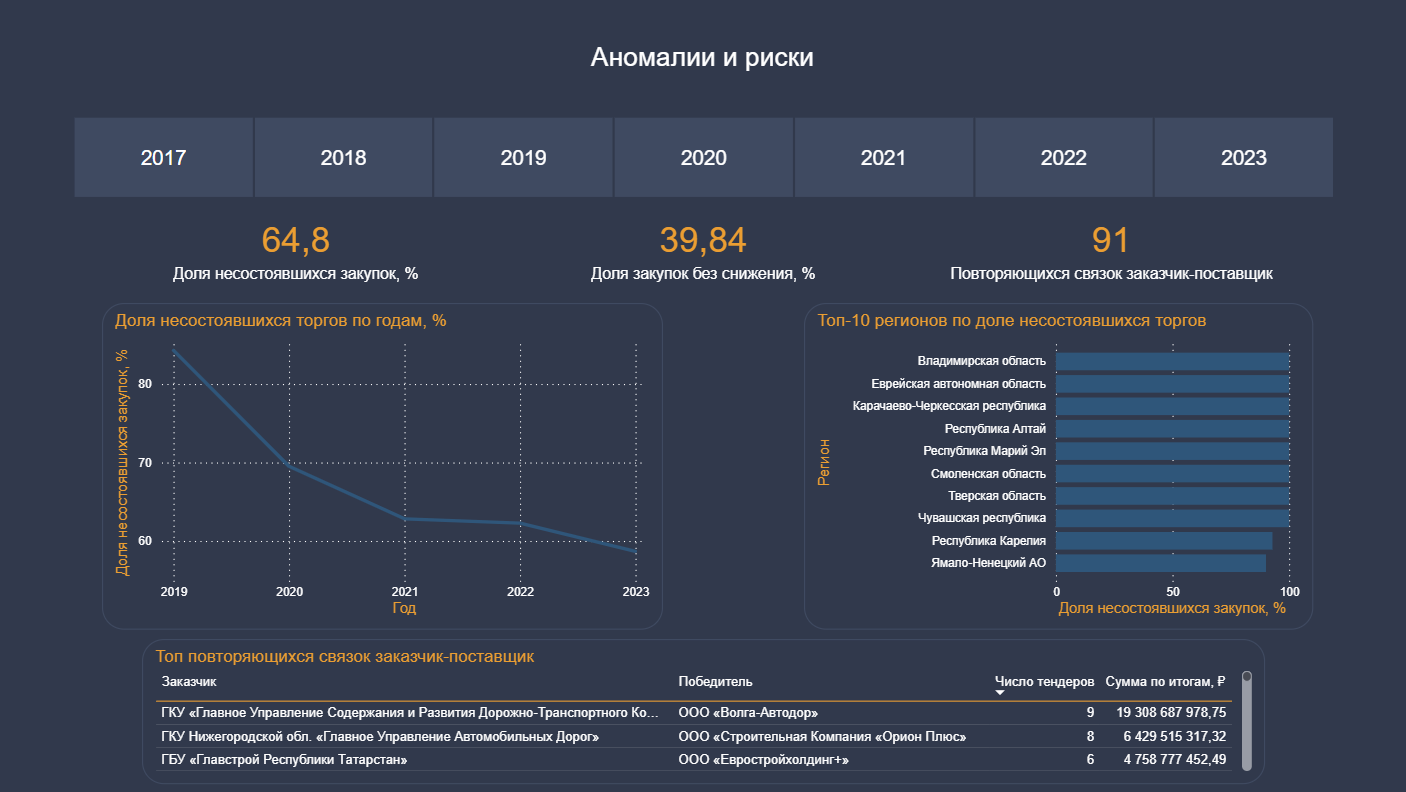

Layout of this report page (visuals, bound fields, positions):
{"tool":"powerbi","page":{"name":"Аномалии и риски","canvas":[1280,720],"ordinal":3},"visuals":[{"type":"slicer","fields":{"Values":["public dim_date.year"]},"box":[43,100,1194,86],"z":0},{"type":"textbox","box":[409,33,461,45],"z":1000},{"type":"card","fields":{"Values":["public fact_tenders.Доля без снижения, %"]},"box":[490,185.5,300.9,80],"z":2000},{"type":"card","fields":{"Values":["public fact_tenders.Доля несостоявшихся закупок, %"]},"box":[120,185.8,300,80],"z":3000},{"type":"card","fields":{"Values":["public fact_tenders.Повторяющихся связок"]},"box":[860,185,303,80],"z":4000},{"type":"lineChart","title":"Доля несостоявшихся торгов по годам, %","fields":{"Category":["public dim_date.Год"],"Y":["public fact_tenders.Доля несостоявшихся закупок, %"]},"box":[94,275,510,297],"z":5000},{"type":"clusteredBarChart","title":"Топ-10 регионов по доле несостоявшихся торгов","fields":{"Category":["public dim_region.Регион"],"Y":["public fact_tenders.Доля несостоявшихся закупок, %"]},"box":[732,275,463,297],"z":6000},{"type":"tableEx","title":"Топ повторяющихся связок заказчик-поставщик","fields":{"Values":["public dim_customer.Заказчик","public dim_winner.Победитель","public fact_tenders.Число тендеров","public fact_tenders.Сумма по итогам, ₽"]},"box":[130,581,1021,132],"z":7000}]}

Visuals, with their boxes in screenshot pixels (x1, y1, x2, y2), scaled from the page's 1280x720 canvas onto the 1406x792 screenshot:
slicer - public dim_date.year: detection(47, 110, 1359, 205)
textbox: detection(449, 36, 956, 86)
card - public fact_tenders.Доля без снижения, %: detection(538, 204, 869, 292)
card - public fact_tenders.Доля несостоявшихся закупок, %: detection(132, 204, 461, 292)
card - public fact_tenders.Повторяющихся связок: detection(945, 204, 1277, 292)
"Доля несостоявшихся торгов по годам, %" lineChart: detection(103, 302, 663, 629)
"Топ-10 регионов по доле несостоявшихся торгов" clusteredBarChart: detection(804, 302, 1313, 629)
"Топ повторяющихся связок заказчик-поставщик" tableEx: detection(143, 639, 1264, 784)
